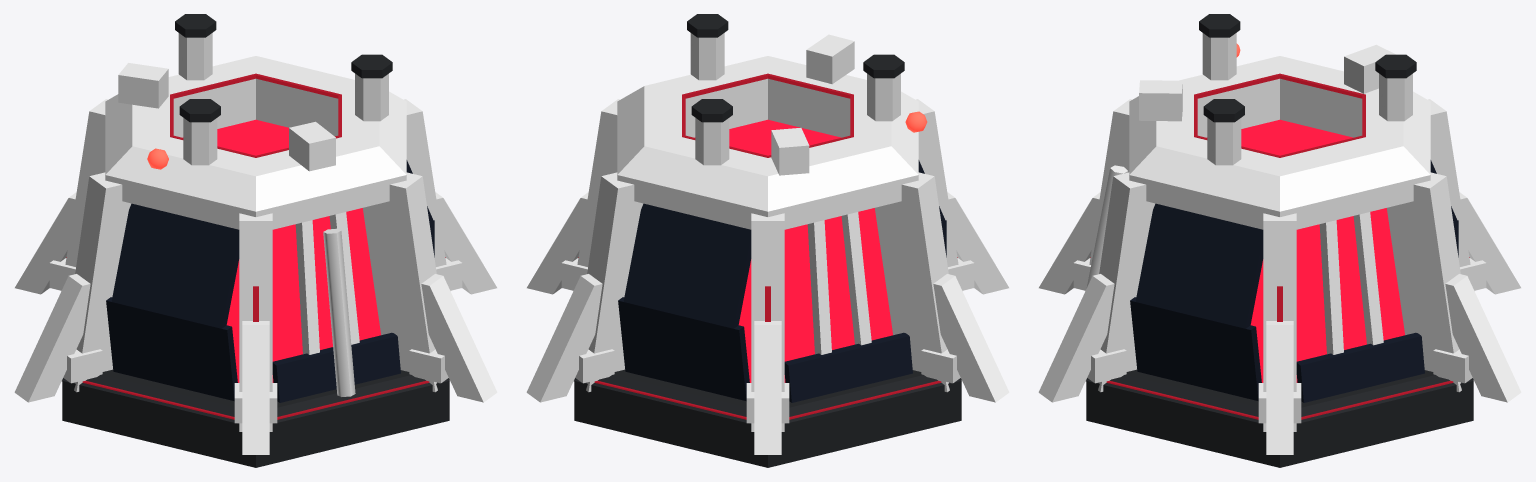
File: core_mid_b.gltf
The picture shows the model from 3 angles, left to right: view 1: azimuth 30°, elevation 25°; view 2: azimuth 150°, elevation 25°; view 3: azimuth 270°, elevation 25°; orthographic projection.
Parts seen in each view (by area): view 1: gun, steel, plate, graphite, core, detail_steel, detail_gun, seam; view 2: gun, steel, plate, graphite, core, detail_steel, seam; view 3: gun, steel, plate, graphite, core, detail_steel, seam, detail_gun.
Boxes of the visible parts, box(x1,y1,x2,y2) form: gun: box(14, 33, 497, 454); steel: box(105, 56, 406, 229); plate: box(106, 160, 434, 402); graphite: box(62, 14, 449, 467); core: box(183, 119, 380, 382); detail_steel: box(49, 63, 462, 423); detail_gun: box(323, 228, 355, 396); seam: box(66, 73, 445, 419); gun: box(526, 33, 1009, 454); steel: box(617, 56, 918, 229); plate: box(618, 160, 946, 402); graphite: box(574, 14, 961, 467); core: box(695, 119, 892, 382); detail_steel: box(561, 34, 974, 423); seam: box(578, 73, 957, 419); gun: box(1038, 33, 1521, 454); steel: box(1129, 56, 1430, 229); plate: box(1130, 160, 1458, 402); graphite: box(1086, 14, 1473, 467); core: box(1207, 119, 1404, 382); detail_steel: box(1073, 44, 1486, 423); seam: box(1090, 73, 1469, 419); detail_gun: box(1086, 165, 1127, 287).
Size of the model in its own units: 8.87 by 5.6 by 7.91.
